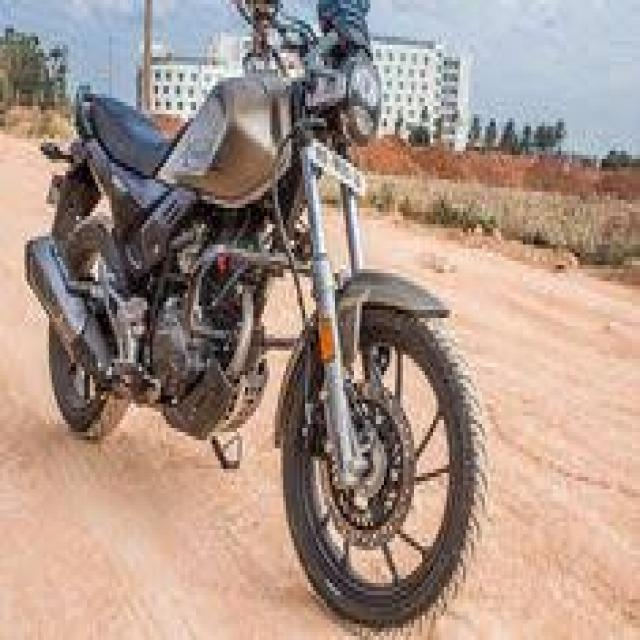Bike: (23, 0, 490, 640)
